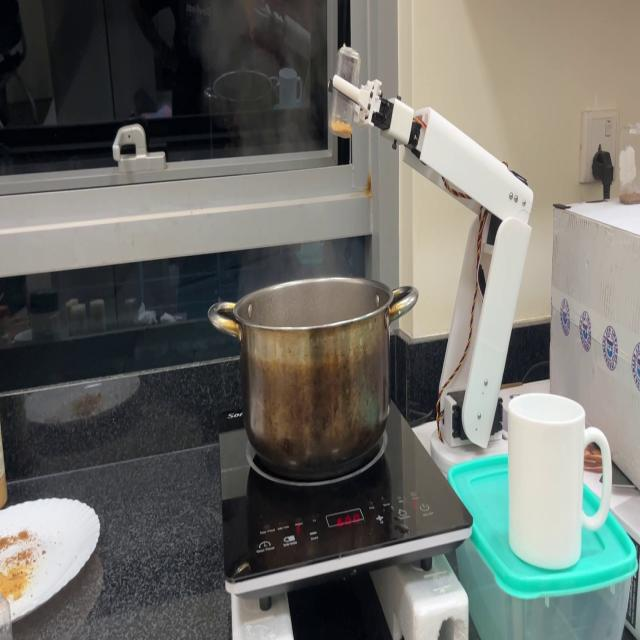cooking_pot: (208, 276, 424, 479)
curry_powder: (335, 114, 354, 141)
maggie_open: (619, 182, 638, 206)
